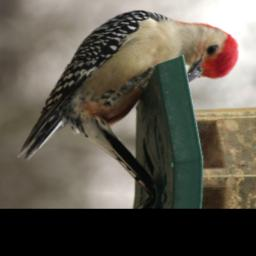Woodpecker: (9, 2, 241, 180)
